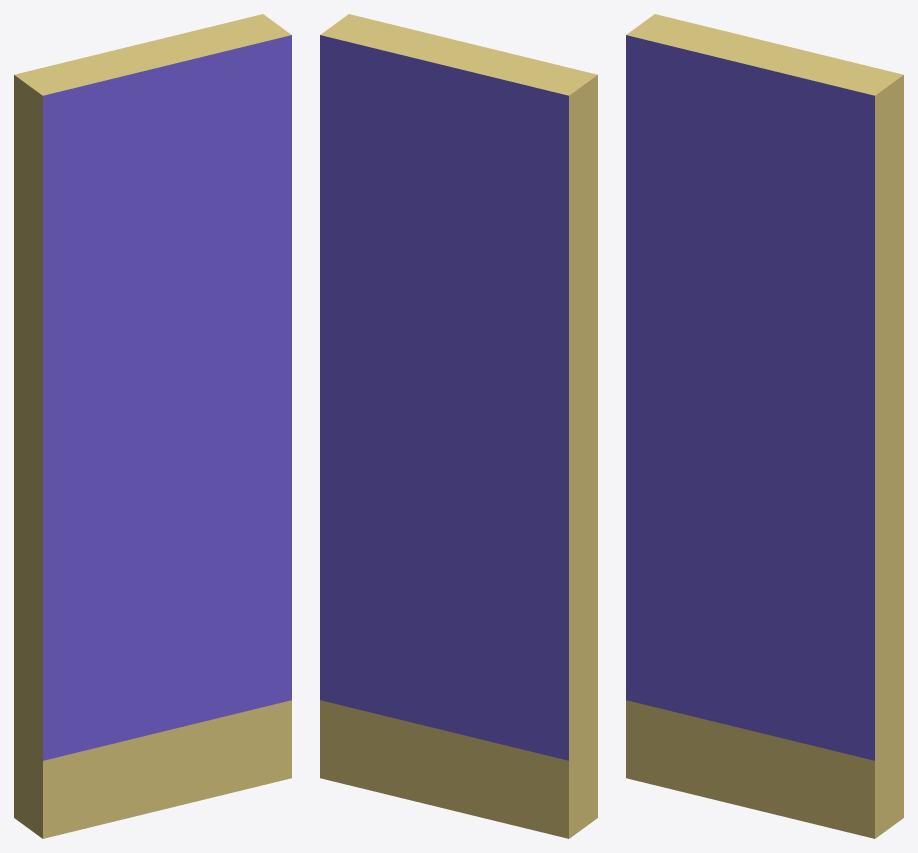
The model's file is Wall_Base.fbx.
3 views of the same model, side by side, from view 1: azimuth 30°, elevation 25°; view 2: azimuth 150°, elevation 25°; view 3: azimuth 330°, elevation 25° (orthographic).
Parts seen in each view (by area): view 1: Wall_Base.001; view 2: Wall_Base.001; view 3: Wall_Base.001.
Boxes of the visible parts, box(x1,y1,x2,y2) form: Wall_Base.001: box(14, 14, 291, 838); Wall_Base.001: box(320, 14, 597, 838); Wall_Base.001: box(626, 14, 903, 838).
Size of the model in its own units: 1000 by 2852 by 200.
